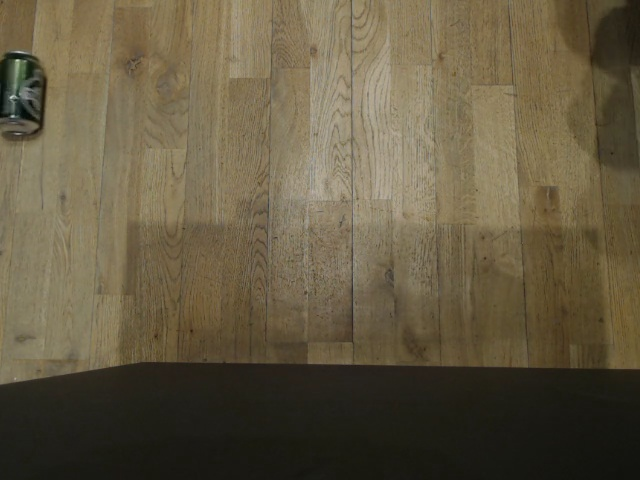beer: (1, 49, 48, 143)
